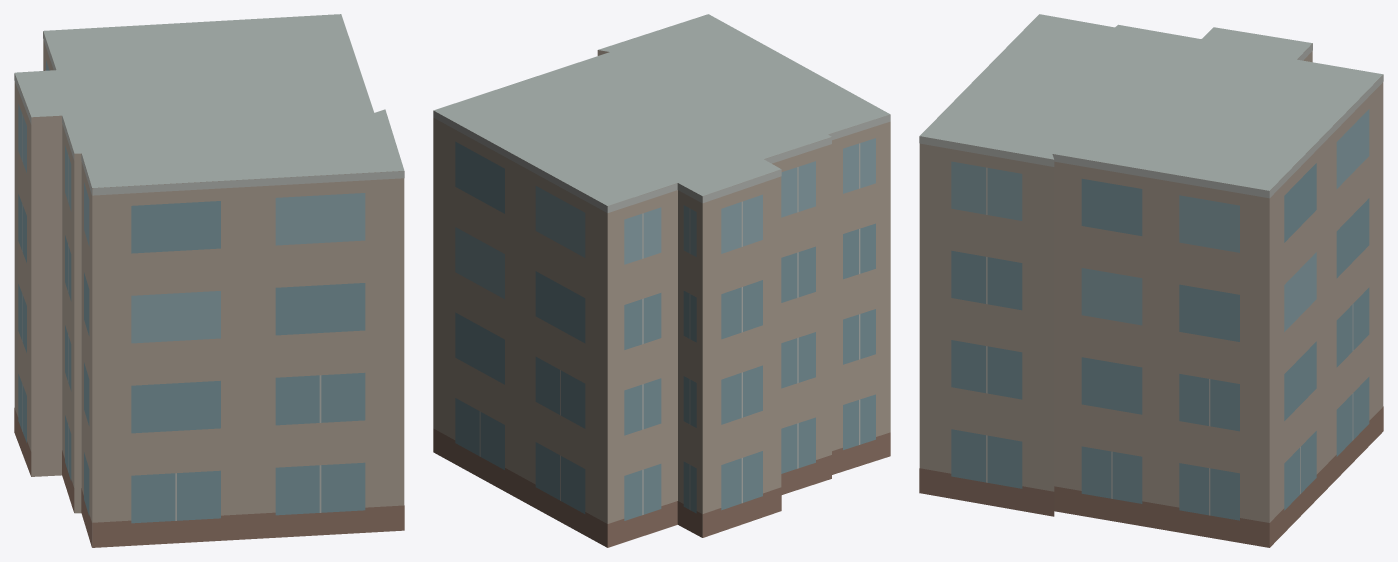
Rendered from survey-upis-32907360.glb.
3 views of the same model, side by side, from view 1: azimuth 30°, elevation 25°; view 2: azimuth 150°, elevation 25°; view 3: azimuth 270°, elevation 25° (orthographic). The views are drawn at different scales.
Parts seen in each view (by area): view 1: survey-upis-32907360.tmp; view 2: survey-upis-32907360.tmp; view 3: survey-upis-32907360.tmp.
Part boxes in pixels (x1,y1,x2,y2): survey-upis-32907360.tmp: (14, 14, 404, 547); survey-upis-32907360.tmp: (433, 14, 890, 547); survey-upis-32907360.tmp: (919, 14, 1383, 547).
Size of the model in its own units: 12.44 by 11.7 by 13.79.
